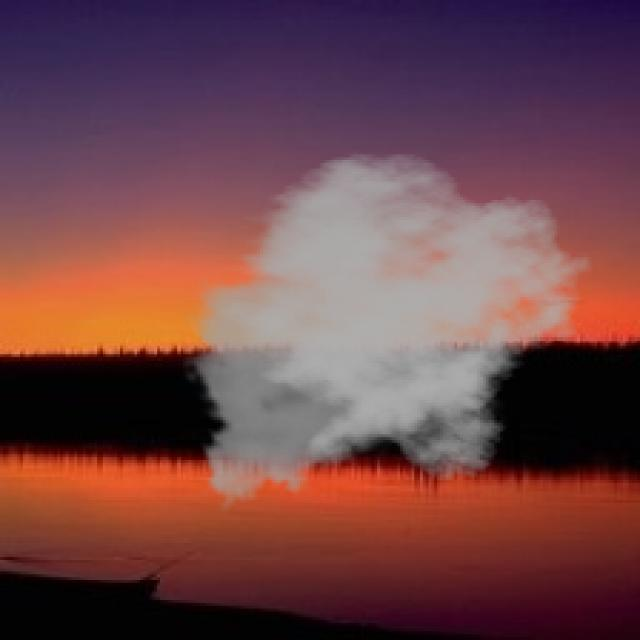smoke: (180, 152, 594, 517)
